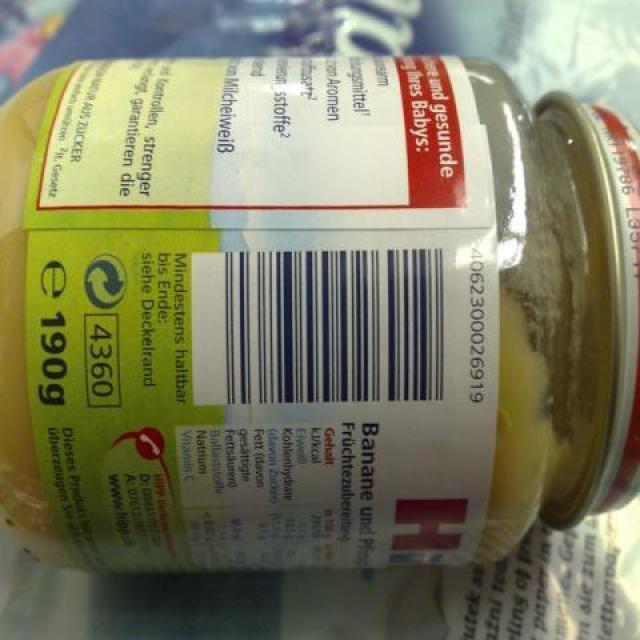Barcode: (193, 241, 459, 411)
